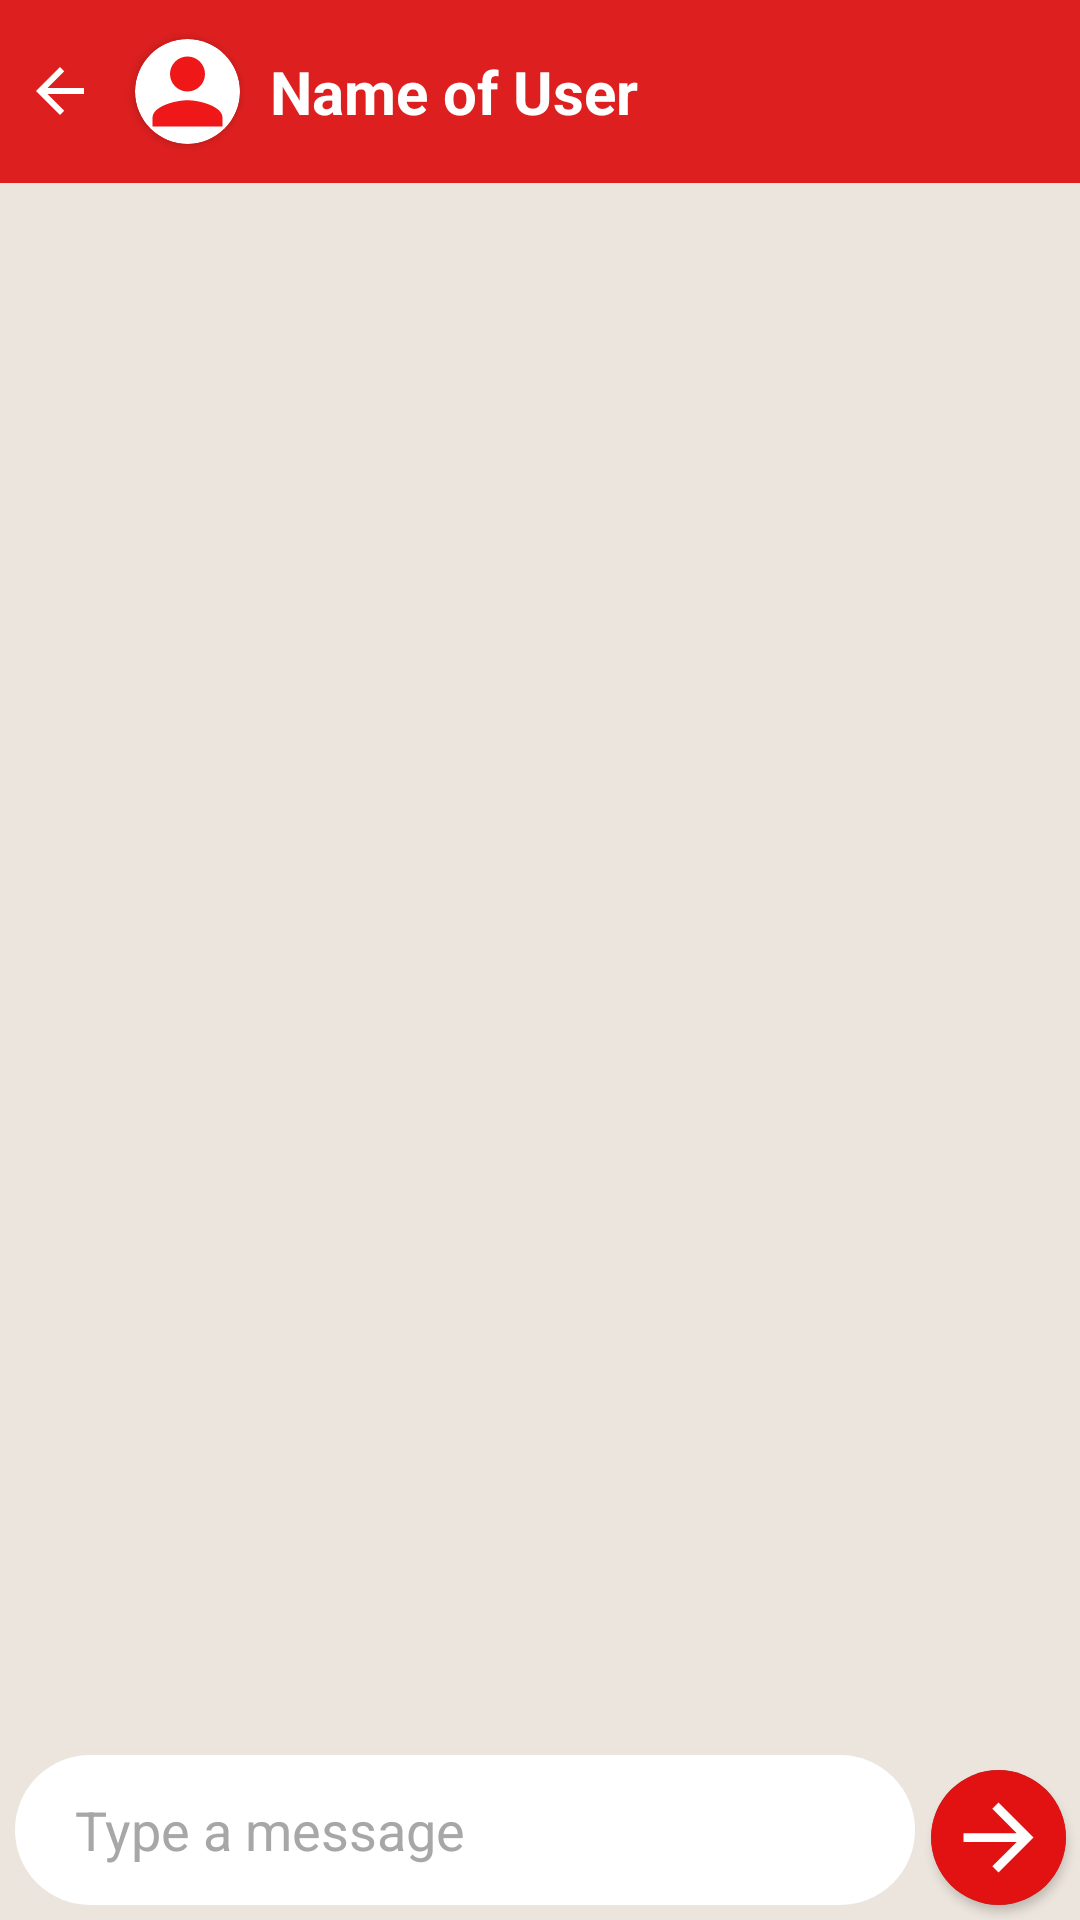

Point at icon controls on the screen. Image size 1080 x 1920, points as point (x, y).
arrow back: point (60, 91)
arrow forward: point (998, 1837)
person: point (187, 91)
